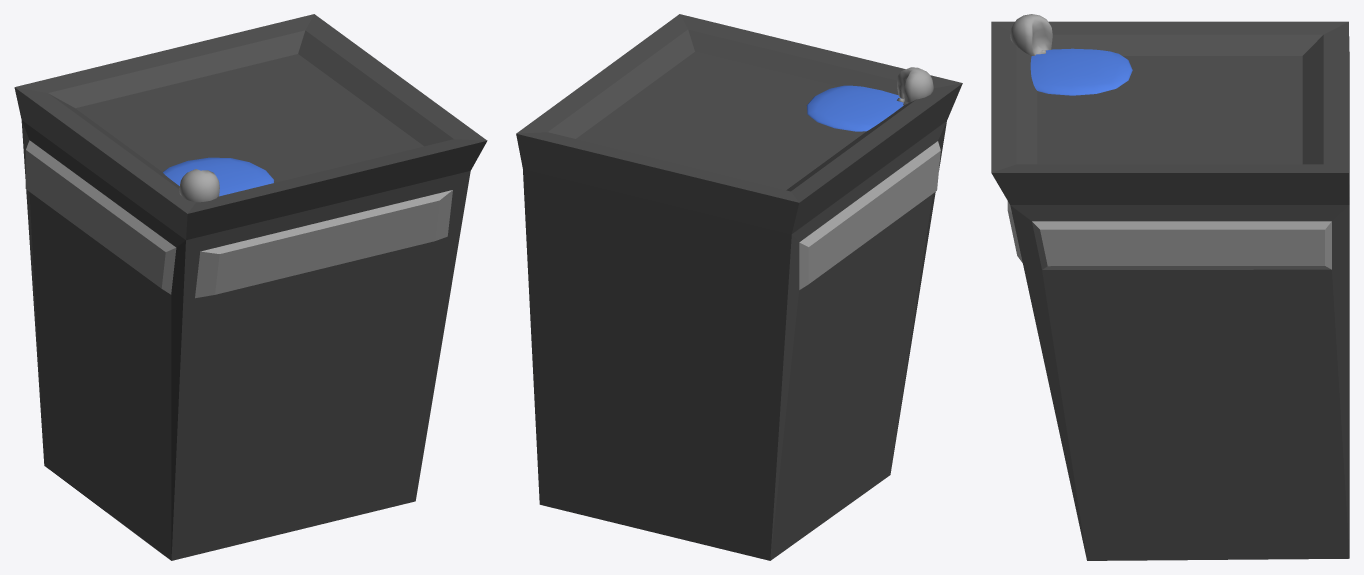
File: DrinkingFountain.fbx
3 renders of one model, left to right at view 1: azimuth 30°, elevation 25°; view 2: azimuth 150°, elevation 25°; view 3: azimuth 270°, elevation 25°, orthographic. The views are drawn at different scales.
Visible parts, largest first — view 1: Cube; view 2: Cube; view 3: Cube.
Part boxes in pixels (left/top/right/bottom): Cube: left=14, top=14, right=487, bottom=560; Cube: left=516, top=14, right=962, bottom=560; Cube: left=991, top=14, right=1349, bottom=560.
Size of the model in its own units: 211 by 275 by 211.
